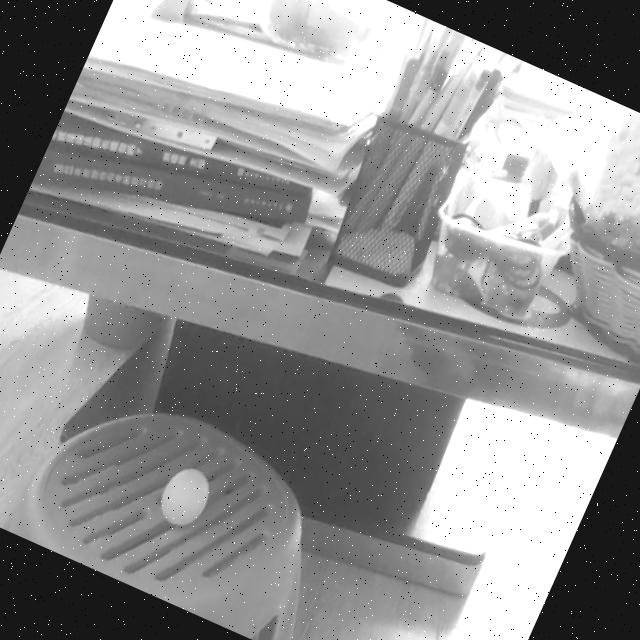ping-pong-ball: (154, 462, 216, 532)
